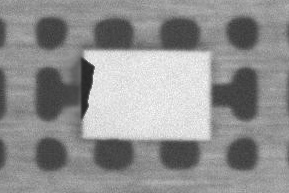DIE_BROKEN: (78, 56, 96, 121)
